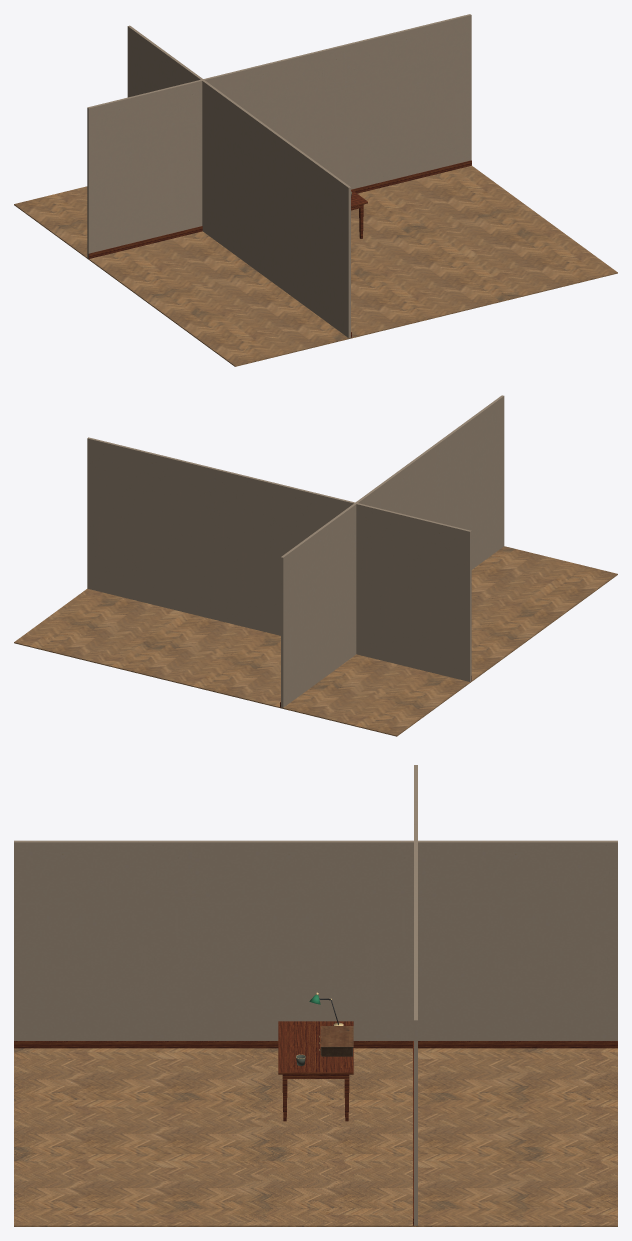
File: escritorio.glb
The picture shows the model from 3 angles, top to bottom: view 1: azimuth 30°, elevation 25°; view 2: azimuth 150°, elevation 25°; view 3: azimuth 270°, elevation 25°; orthographic projection. The views are drawn at different scales.
Visible parts, largest first — view 1: PisoHabitacion, ParedFondo, ParedIzquierda, ZocaloFondo; view 2: ParedFondo, PisoHabitacion, ParedIzquierda; view 3: ParedIzquierda, PisoHabitacion, ZocaloIzquierda, Tapa, ParedFondo, FicheroCompleto.
Part boxes in pixels (left/top/right/bottom): PisoHabitacion: left=14, top=165, right=617, bottom=366; ParedFondo: left=87, top=14, right=471, bottom=258; ParedIzquierda: left=127, top=25, right=350, bottom=337; ZocaloFondo: left=88, top=160, right=471, bottom=258; ParedFondo: left=87, top=437, right=471, bottom=681; PisoHabitacion: left=14, top=546, right=617, bottom=736; ParedIzquierda: left=281, top=395, right=504, bottom=707; ParedIzquierda: left=14, top=840, right=617, bottom=1040; PisoHabitacion: left=14, top=1048, right=617, bottom=1226; ZocaloIzquierda: left=14, top=1041, right=617, bottom=1048; Tapa: left=278, top=1021, right=353, bottom=1074; ParedFondo: left=414, top=765, right=417, bottom=1225; FicheroCompleto: left=320, top=1026, right=353, bottom=1056.
Size of the model in its own units: 8 by 3.02 by 8.
Materials: 8 (4 with a texture image).
